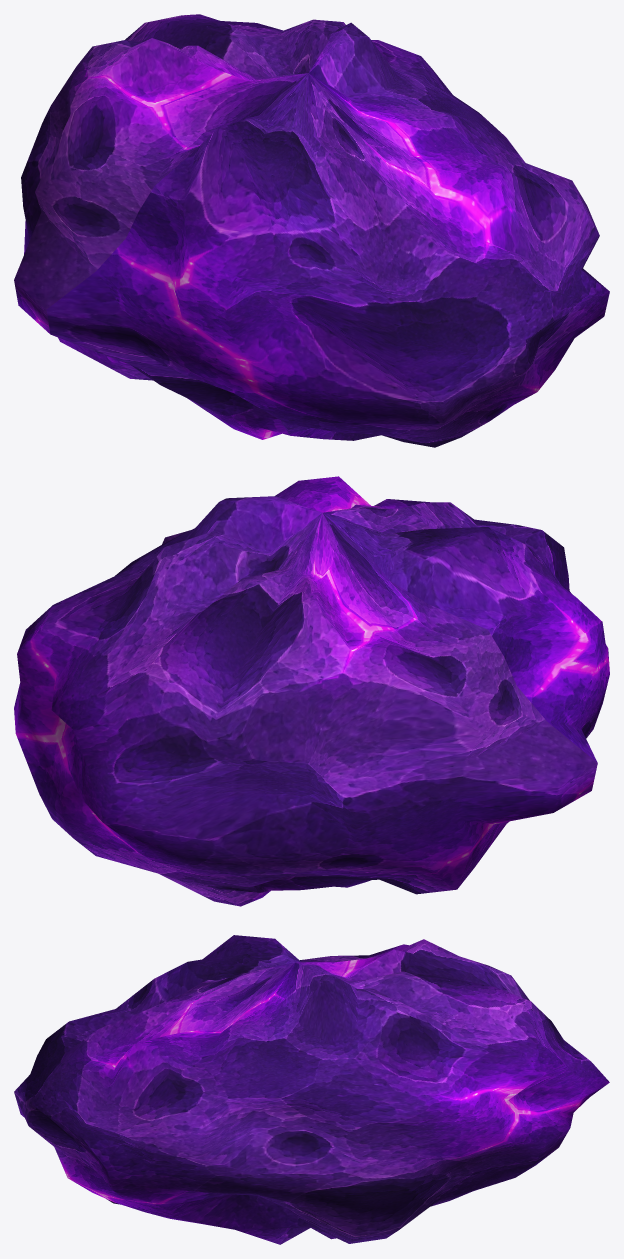
The model's file is roca.glb.
3 renders of one model, top to bottom at view 1: azimuth 30°, elevation 25°; view 2: azimuth 150°, elevation 25°; view 3: azimuth 270°, elevation 25°, orthographic. The views are drawn at different scales.
Visible parts, largest first — view 1: Sphere; view 2: Sphere; view 3: Sphere.
Part boxes in pixels (x1,y1,x2,y2): Sphere: (14, 14, 609, 447); Sphere: (14, 476, 609, 906); Sphere: (14, 935, 609, 1244).
Bounding box in the file's own units: 2.25 × 1.49 × 3.06.
1 material, 1 textured.
